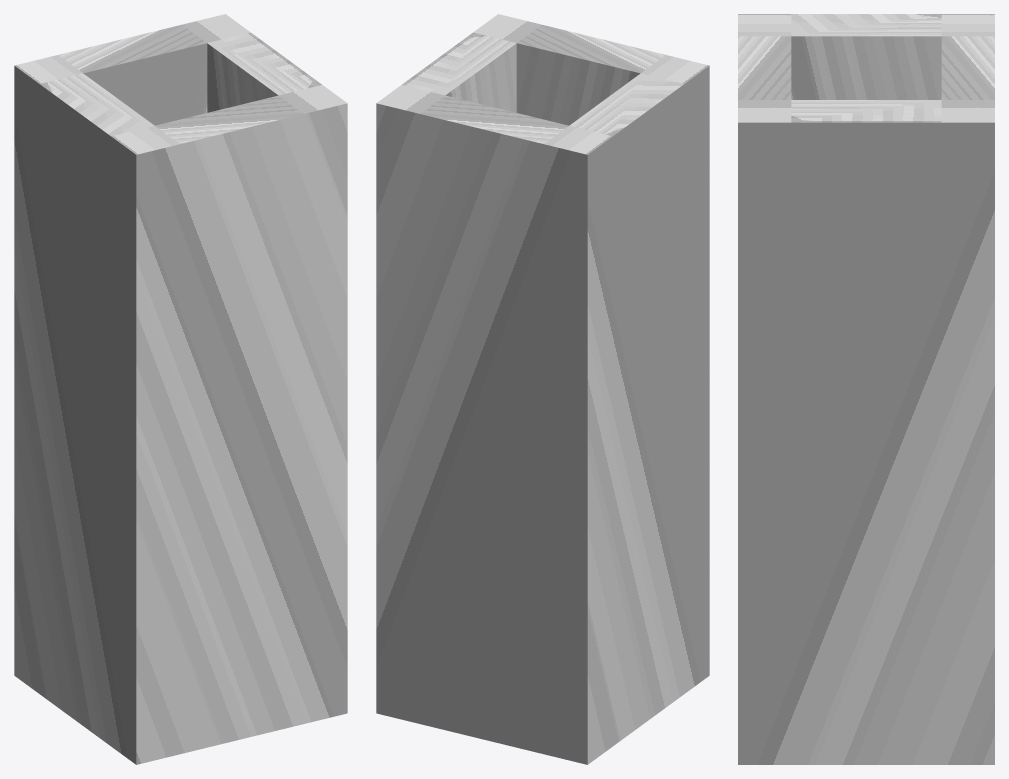
The model's file is conduitvertical.obj.
3 renders of one model, left to right at view 1: azimuth 30°, elevation 25°; view 2: azimuth 150°, elevation 25°; view 3: azimuth 270°, elevation 25°, orthographic. The views are drawn at different scales.
Visible parts, largest first — view 1: FluidConduit_Cube.022; view 2: FluidConduit_Cube.022; view 3: FluidConduit_Cube.022.
Part boxes in pixels (x1=…): FluidConduit_Cube.022: x1=14, y1=14, x2=347, y2=764; FluidConduit_Cube.022: x1=376, y1=14, x2=709, y2=764; FluidConduit_Cube.022: x1=738, y1=14, x2=994, y2=764.
Bounding box in the file's own units: 0.3625 × 1 × 0.3625.
